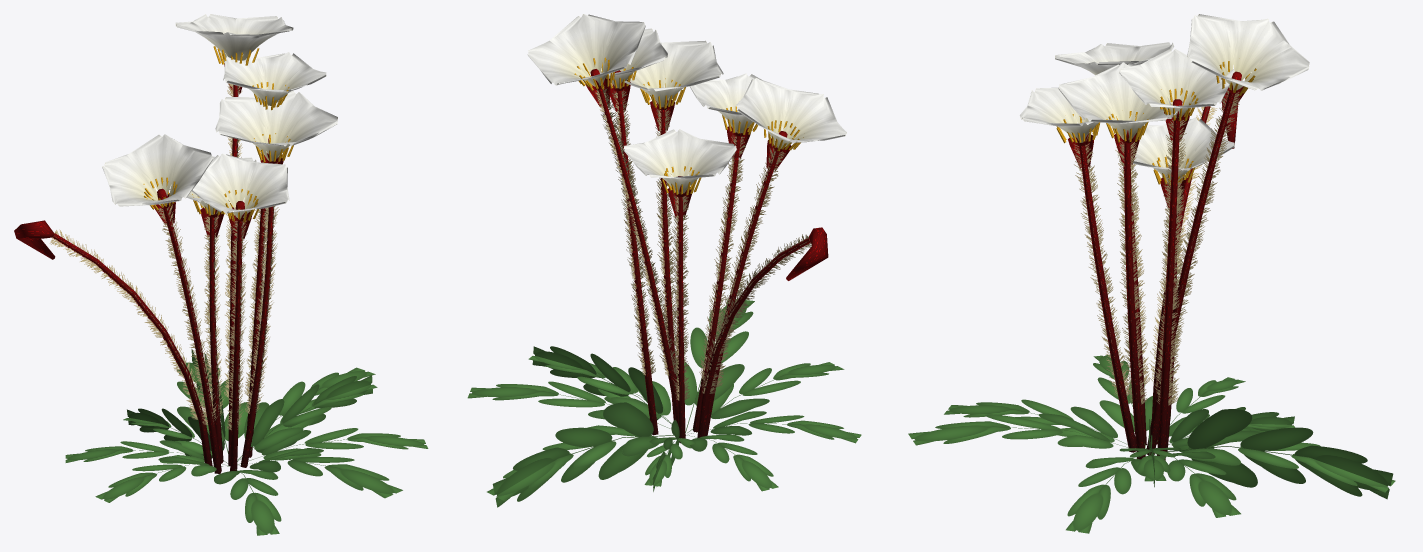
File: arctic_poppy_v02.glb
3 views of the same model, side by side, from view 1: azimuth 30°, elevation 25°; view 2: azimuth 150°, elevation 25°; view 3: azimuth 270°, elevation 25° (orthographic). The views are drawn at different scales.
Visible parts, largest first — view 1: arctic_poppy_v02; view 2: arctic_poppy_v02; view 3: arctic_poppy_v02.
Boxes of the visible parts, <box> form: arctic_poppy_v02: <box>14,14,428,535</box>; arctic_poppy_v02: <box>467,14,861,507</box>; arctic_poppy_v02: <box>908,14,1395,533</box>.
Size of the model in its own units: 0.2046 by 0.2458 by 0.2302.
Materials: 5 (5 with a texture image).
